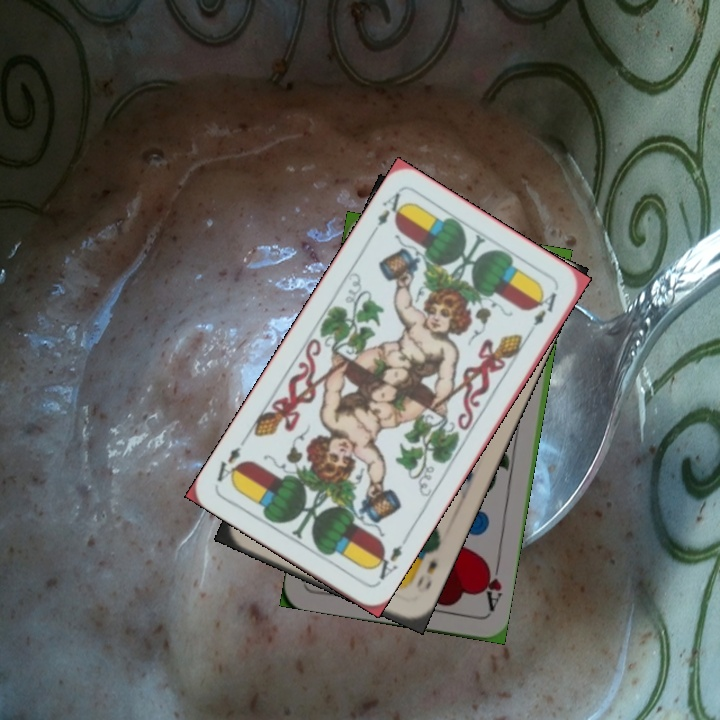EA: (366, 188, 409, 240), (367, 540, 406, 587)
EO: (412, 553, 440, 593)
HA: (477, 556, 505, 614)
